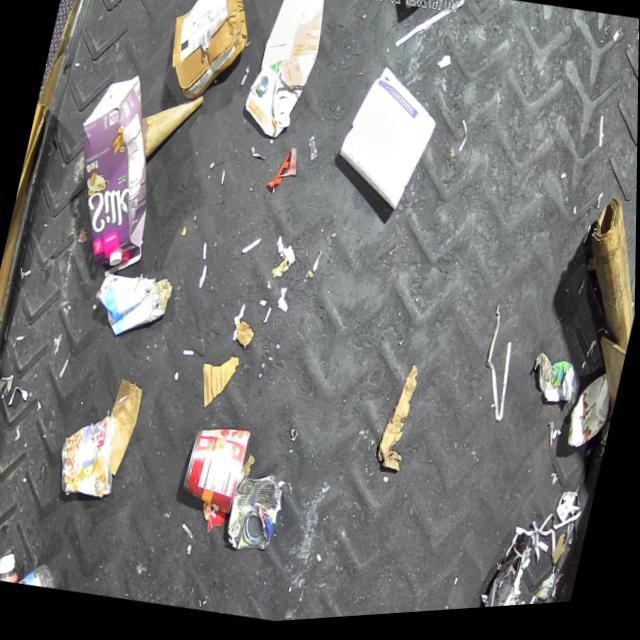can: (179, 419, 254, 519), (53, 406, 129, 504), (222, 467, 290, 562), (565, 375, 619, 466)
non_white_jug: (50, 64, 181, 290), (238, 0, 333, 146)
